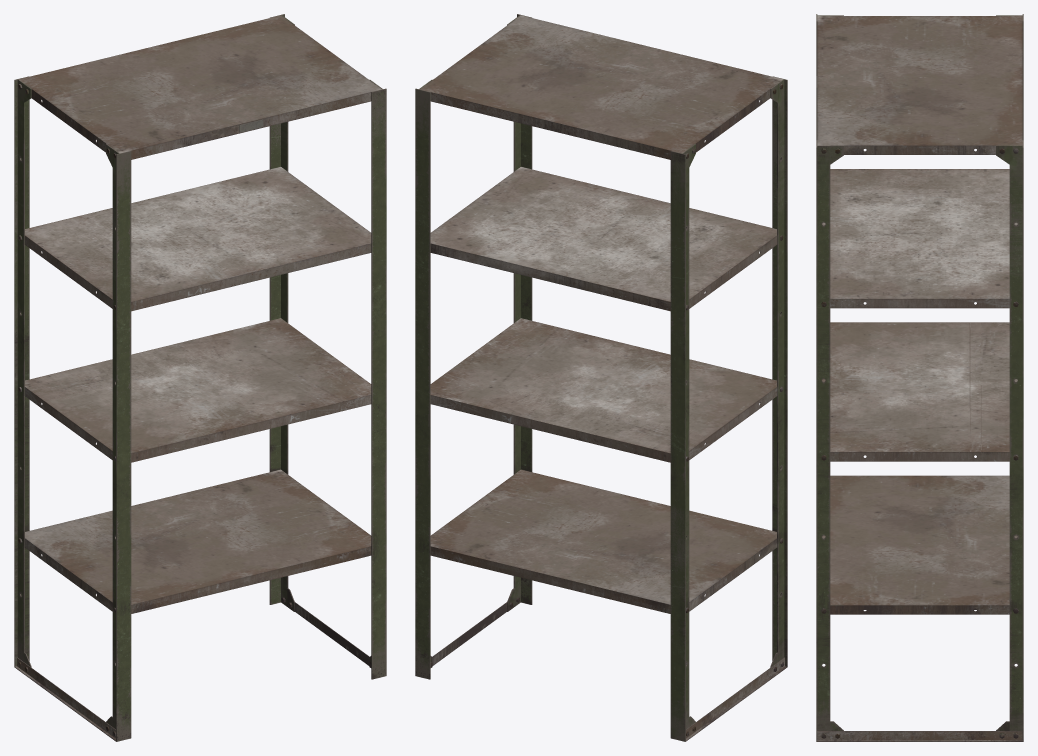
The model's file is 금속선반.fbx.
3 views of the same model, side by side, from view 1: azimuth 30°, elevation 25°; view 2: azimuth 150°, elevation 25°; view 3: azimuth 270°, elevation 25° (orthographic).
Parts seen in each view (by area): view 1: worn_metal_rack; view 2: worn_metal_rack; view 3: worn_metal_rack.
Part boxes in pixels (x1,y1,x2,y2): worn_metal_rack: (14,14,386,741); worn_metal_rack: (415,14,787,741); worn_metal_rack: (816,14,1023,741).
Bounding box in the file's own units: 91.54 × 190 × 60.
